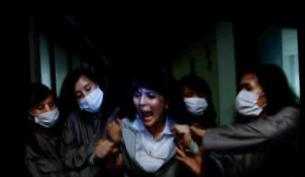NONE: (133, 81, 167, 127)
OK: (232, 70, 266, 114), (182, 82, 210, 115)
WRONG: (73, 75, 107, 113), (33, 93, 62, 128)
